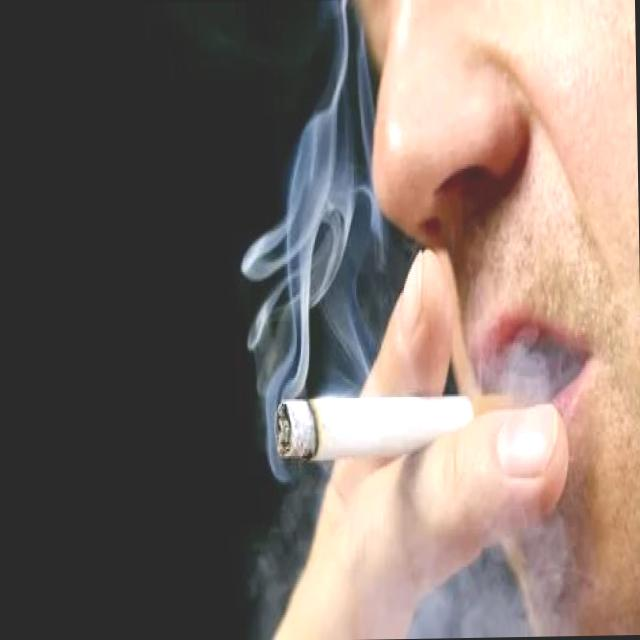smoke: (264, 370, 522, 468)
